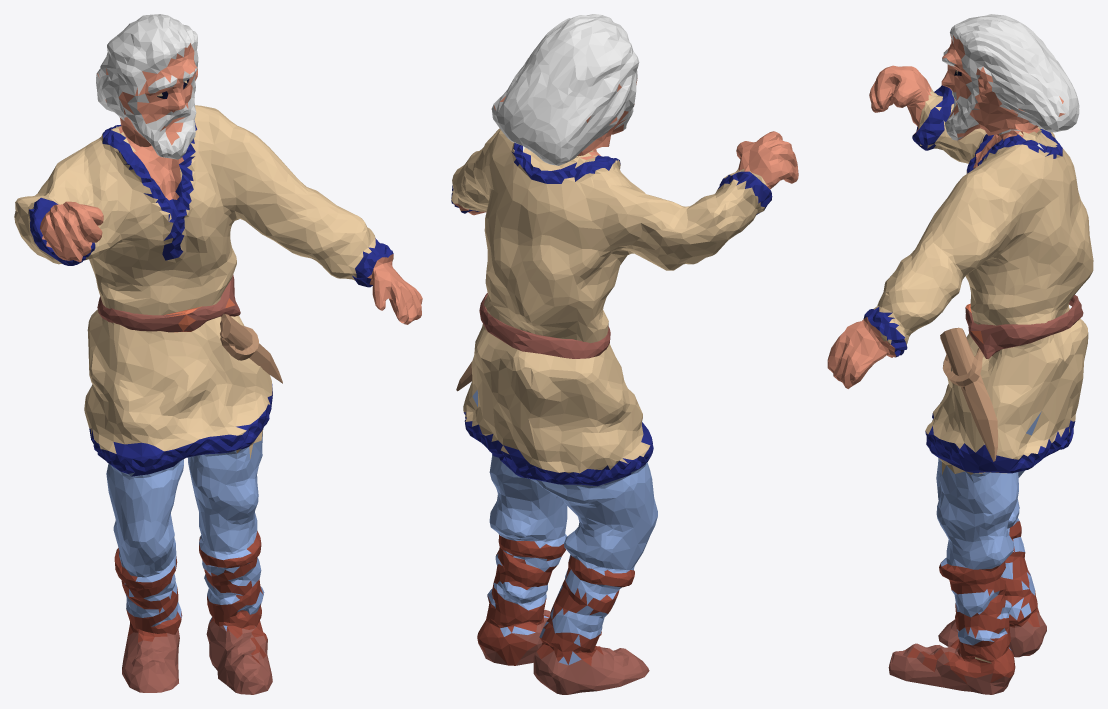
Rendered from MasterCarpenter_Sverker.fbx.
3 renders of one model, left to right at view 1: azimuth 30°, elevation 25°; view 2: azimuth 150°, elevation 25°; view 3: azimuth 270°, elevation 25°, orthographic. The views are drawn at different scales.
Parts seen in each view (by area): view 1: Sverker; view 2: Sverker; view 3: Sverker.
Boxes of the visible parts, <box> form: Sverker: <box>14,14,422,694</box>; Sverker: <box>451,14,798,694</box>; Sverker: <box>827,14,1093,694</box>.
Bounding box in the file's own units: 1446 × 2535 × 970.
